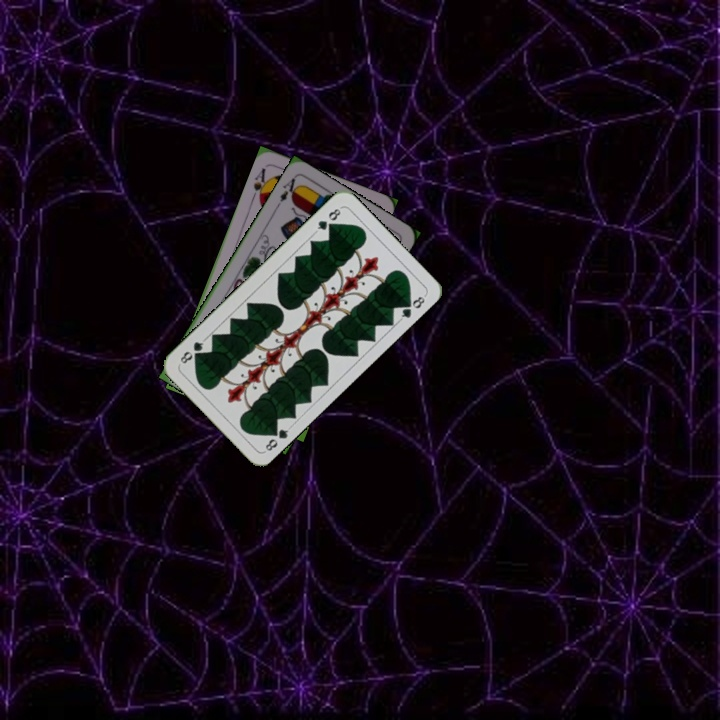EA: (272, 173, 302, 210)
G8: (311, 203, 344, 235), (261, 423, 294, 454)
SA: (248, 164, 272, 205)
